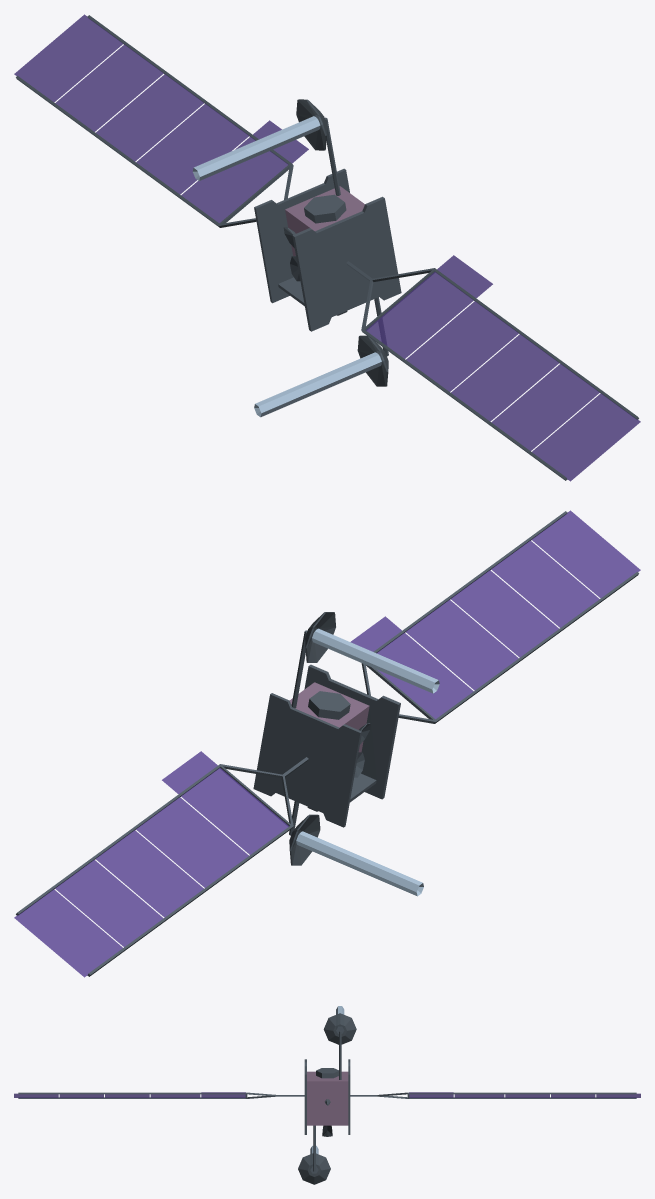
The model's file is Sat-UK-Skynet.glb.
3 renders of one model, top to bottom at view 1: azimuth 30°, elevation 25°; view 2: azimuth 150°, elevation 25°; view 3: azimuth 270°, elevation 25°, orthographic. The views are drawn at different scales.
Bounding box in the file's own units: 23.42 × 35.95 × 128.
